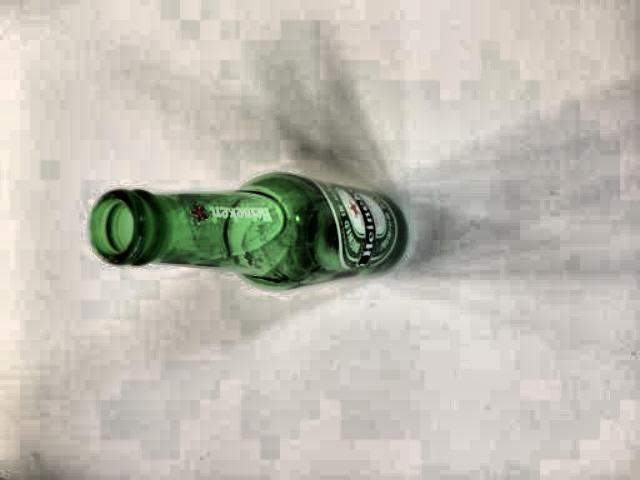Bottles: (80, 154, 439, 328)
